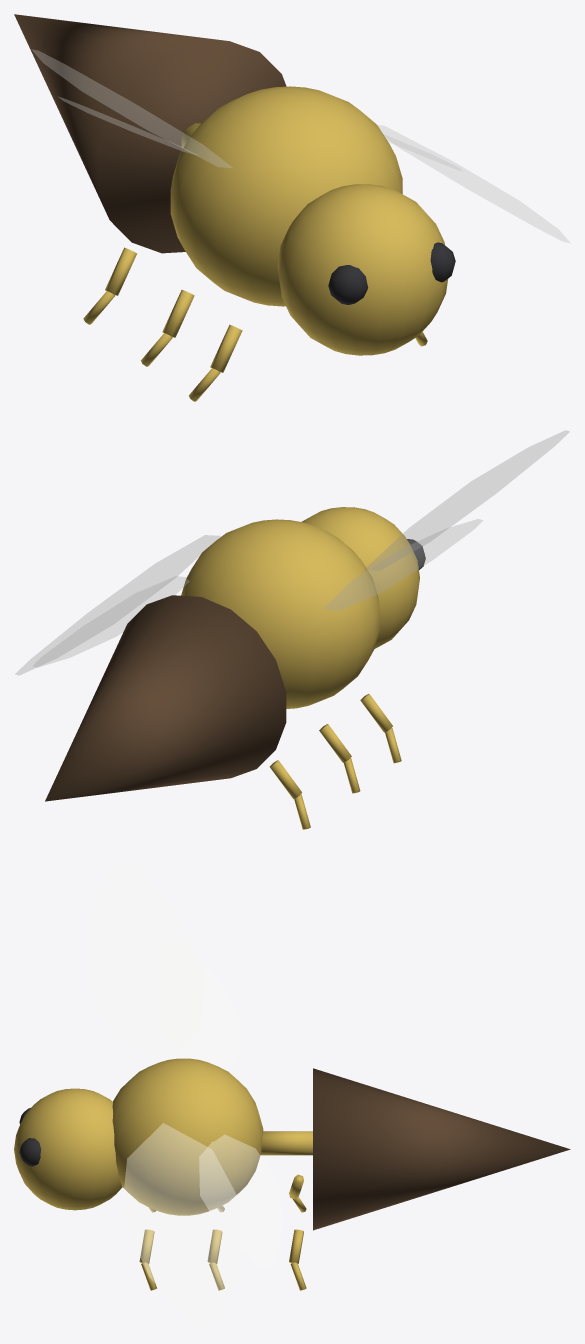
Rendered from wasp_vcol.glb.
3 renders of one model, top to bottom at view 1: azimuth 30°, elevation 25°; view 2: azimuth 150°, elevation 25°; view 3: azimuth 270°, elevation 25°, orthographic. The views are drawn at different scales.
Visible parts, largest first — view 1: wasp_body, wasp_wings; view 2: wasp_body, wasp_wings; view 3: wasp_body, wasp_wings.
Boxes of the visible parts, box(x1,y1,x2,y2) form: wasp_body: box(14, 14, 455, 401); wasp_wings: box(32, 49, 569, 242); wasp_body: box(45, 507, 425, 829); wasp_wings: box(15, 430, 569, 675); wasp_body: box(14, 1058, 570, 1290); wasp_wings: box(85, 858, 283, 1329).
Bounding box in the file's own units: 0.3531 × 0.2375 × 0.41.
